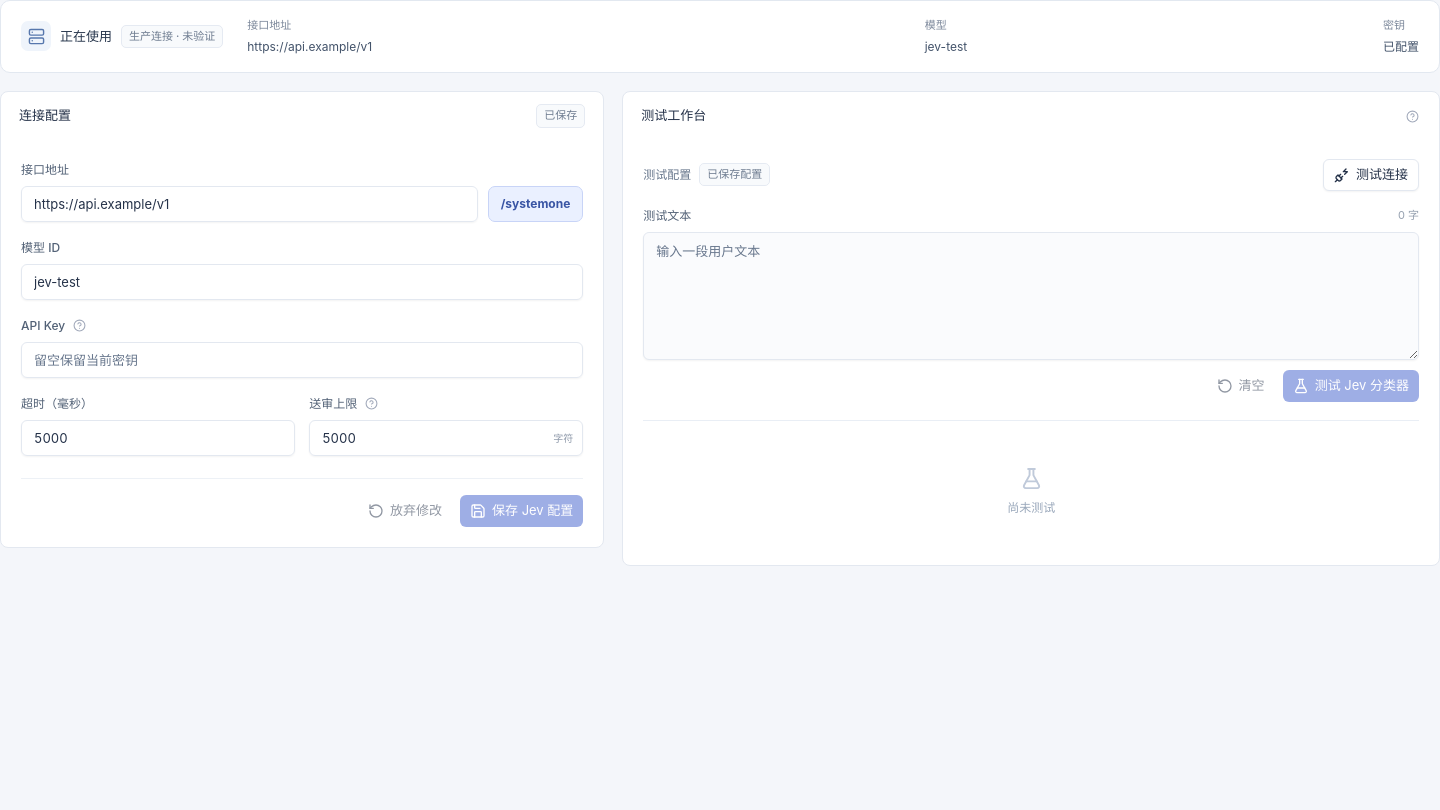
Test: updates the active snapshot after saving and can discard later changes
The image size is (1440, 810).
Replace the text in the field labelled "模型 ID" with "jev-saved" at (302, 282), box [21,264,583,300]
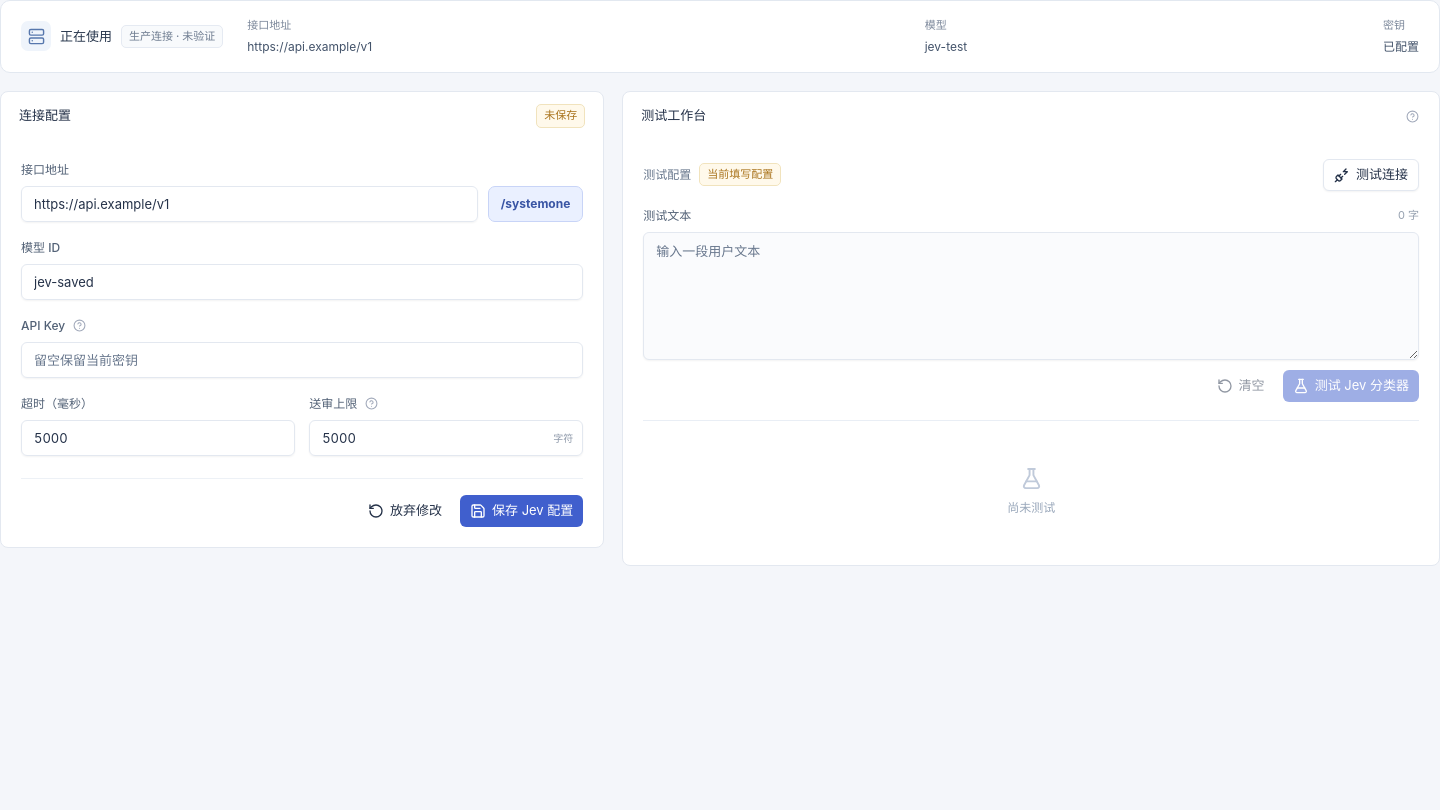
Click the button "保存 Jev 配置" at (522, 510), box [460,494,583,526]
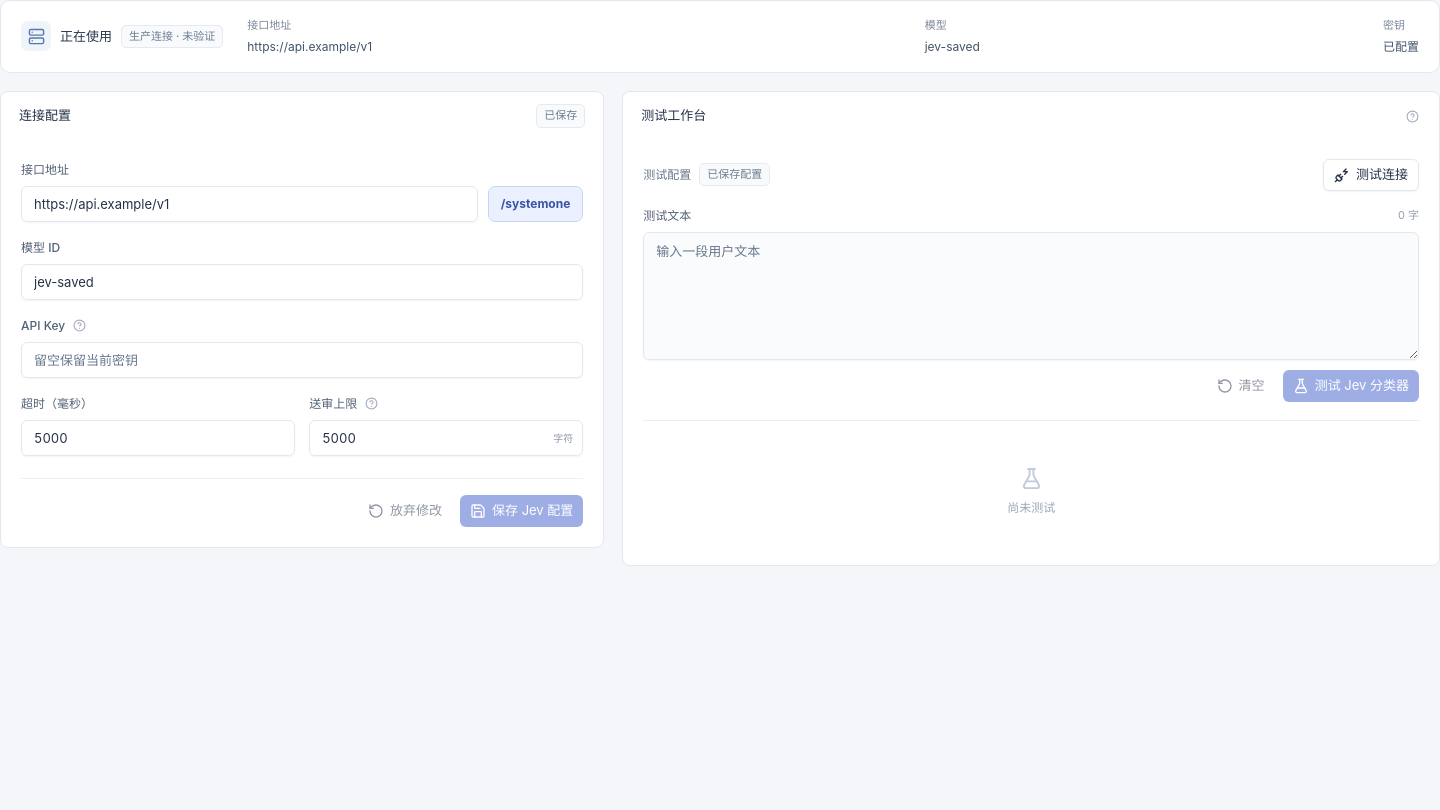
Check: the text "jev-saved" is shown, box [925,38,980,54]
Replace the text in the field labelled "模型 ID" with "jev-another-draft" at (302, 282), box [21,264,583,300]
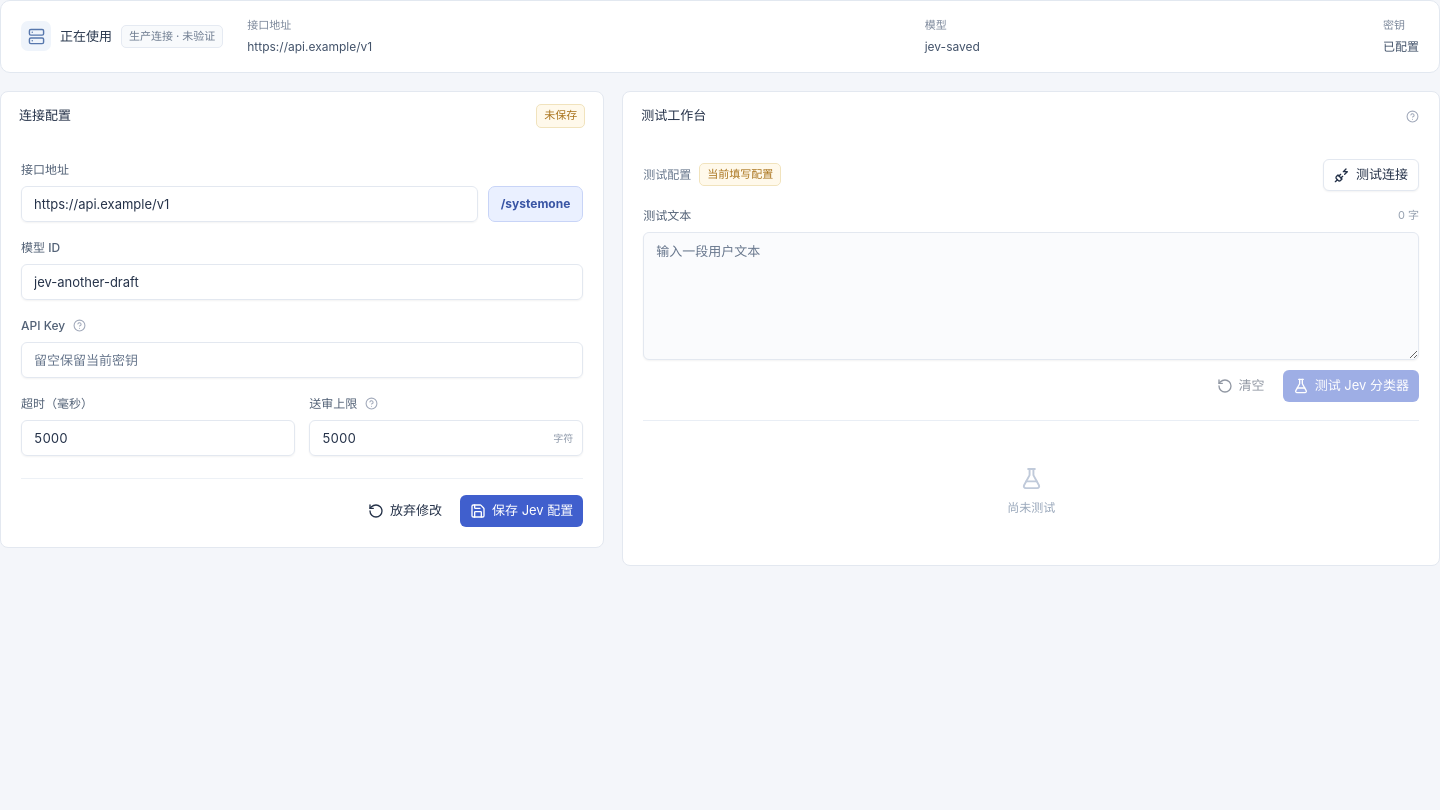
Click the button "放弃修改" at (405, 510), box [358,494,452,526]
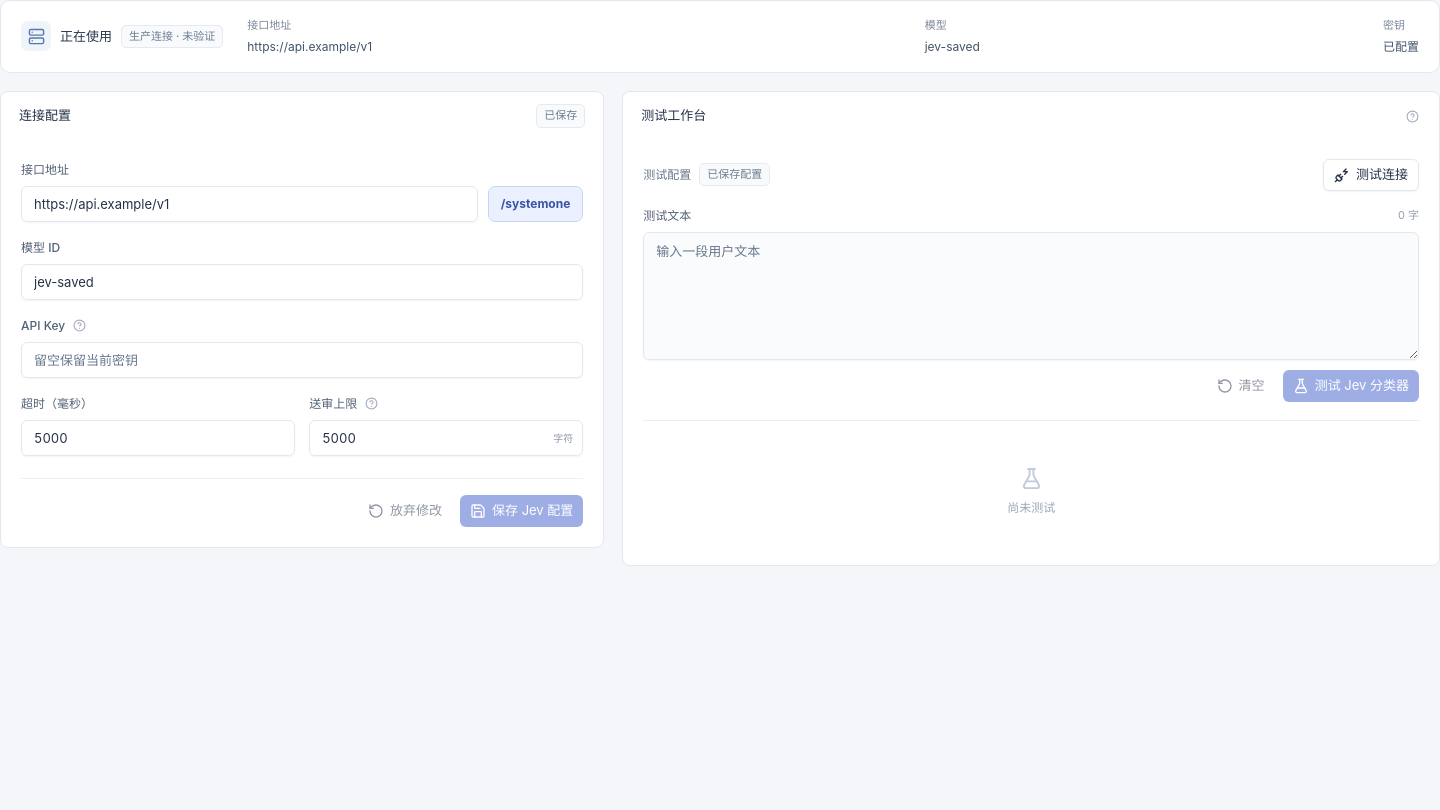
Check: the button "保存 Jev 配置" is disabled, box [460,494,583,526]
